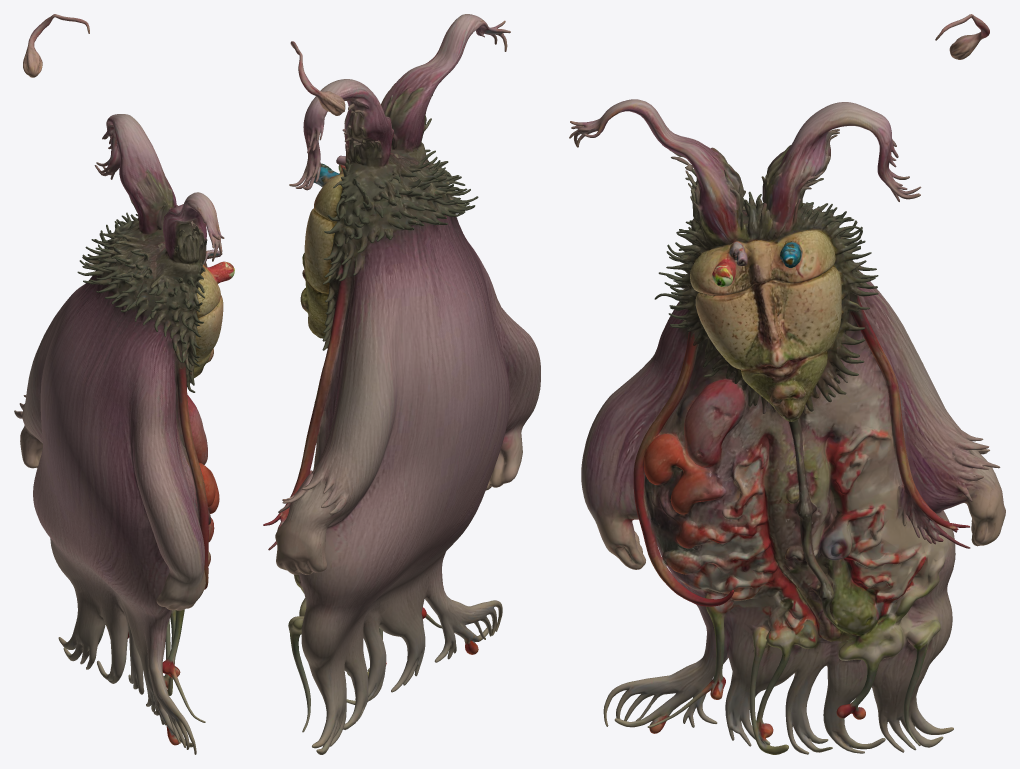
File: character.glb
3 views of the same model, side by side, from view 1: azimuth 30°, elevation 25°; view 2: azimuth 150°, elevation 25°; view 3: azimuth 270°, elevation 25° (orthographic). The views are drawn at different scales.
Visible parts, largest first — view 1: tripo_node_99b38442-57e7-40cb-a1db-a89edc30e91a; view 2: tripo_node_99b38442-57e7-40cb-a1db-a89edc30e91a; view 3: tripo_node_99b38442-57e7-40cb-a1db-a89edc30e91a.
Boxes of the visible parts, bbox=[...] form: tripo_node_99b38442-57e7-40cb-a1db-a89edc30e91a: bbox=[14, 14, 234, 754]; tripo_node_99b38442-57e7-40cb-a1db-a89edc30e91a: bbox=[263, 14, 540, 754]; tripo_node_99b38442-57e7-40cb-a1db-a89edc30e91a: bbox=[569, 14, 1005, 754].
Bounding box in the file's own units: 0.2599 × 1 × 0.5373.
1 material, 1 textured.
